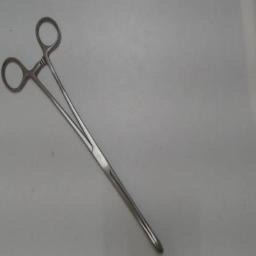Sponge Forceps: (0, 12, 168, 256)
